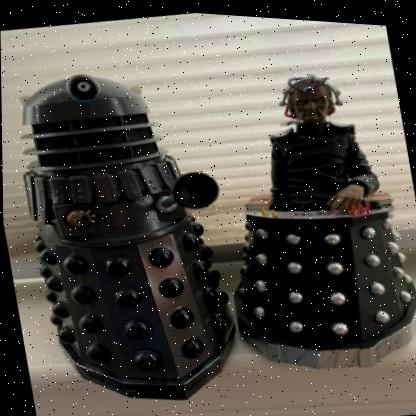dalek: (1, 38, 259, 416)
